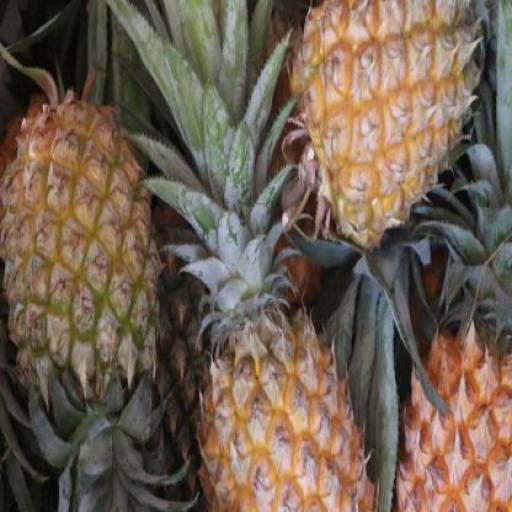------------------------------: (2, 95, 158, 389)
Pineapple - v8 v1: (286, 0, 484, 247), (190, 310, 372, 512), (390, 300, 512, 511)
